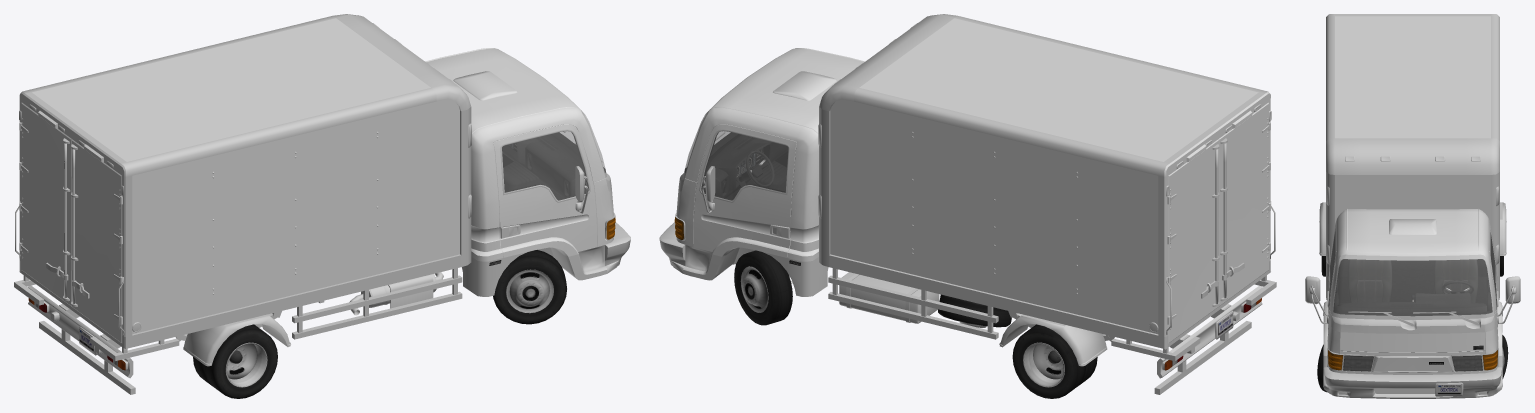
Rendered from lct3000.fbx.
3 renders of one model, left to right at view 1: azimuth 30°, elevation 25°; view 2: azimuth 150°, elevation 25°; view 3: azimuth 270°, elevation 25°, orthographic. The views are drawn at different scales.
Parts seen in each view (by area): view 1: Cargo_box, Cargo_box_Frame, body, Cargodoor_left, Cargodoor_right, Frame, Door_Right, wheel_FR, Door_Glass_Right, wheel_RR, Dashboard, Bottom (+7 smaller); view 2: Cargo_box, Cargo_box_Frame, body, Cargodoor_right, Cargodoor_left, Frame, Door_Left, Door_Glass_Left, wheel_RL, wheel_FL, Bottom, Dashboard (+8 smaller); view 3: Cargo_box, body, Cargo_box_Frame, Windshield, Bumper_front, Windshield_trim, Seats, Interior, Dashboard, Grill, Headlights_Glass, Frame (+13 smaller).
Boxes of the visible parts, left/top/right/bottom form: Cargo_box: left=19, top=18, right=459, bottom=336; Cargo_box_Frame: left=15, top=14, right=471, bottom=348; body: left=425, top=48, right=613, bottom=261; Cargodoor_left: left=21, top=102, right=72, bottom=306; Cargodoor_right: left=72, top=139, right=122, bottom=343; Frame: left=14, top=268, right=462, bottom=394; Door_Right: left=493, top=124, right=597, bottom=257; wheel_FR: left=493, top=250, right=566, bottom=324; Door_Glass_Right: left=502, top=131, right=588, bottom=200; wheel_RR: left=193, top=324, right=277, bottom=398; Dashboard: left=502, top=134, right=587, bottom=197; Bottom: left=462, top=245, right=607, bottom=296; Cargo_box: left=830, top=18, right=1270, bottom=336; Cargo_box_Frame: left=818, top=14, right=1275, bottom=349; body: left=676, top=48, right=864, bottom=261; Cargodoor_right: left=1218, top=102, right=1268, bottom=306; Cargodoor_left: left=1168, top=139, right=1218, bottom=343; Frame: left=828, top=268, right=1276, bottom=394; Door_Left: left=693, top=124, right=796, bottom=257; Door_Glass_Left: left=701, top=131, right=787, bottom=200; wheel_RL: left=1012, top=324, right=1097, bottom=398; wheel_FL: left=734, top=250, right=792, bottom=325; Bottom: left=683, top=245, right=828, bottom=296; Dashboard: left=703, top=134, right=788, bottom=197; Cargo_box: left=1335, top=16, right=1490, bottom=224; body: left=1323, top=209, right=1502, bottom=374; Cargo_box_Frame: left=1326, top=14, right=1499, bottom=300; Windshield: left=1333, top=259, right=1492, bottom=315; Bumper_front: left=1323, top=367, right=1502, bottom=398; Windshield_trim: left=1331, top=254, right=1494, bottom=333; Seats: left=1347, top=259, right=1478, bottom=302; Interior: left=1333, top=259, right=1492, bottom=316; Dashboard: left=1337, top=293, right=1486, bottom=314; Grill: left=1340, top=355, right=1485, bottom=372; Headlights_Glass: left=1343, top=355, right=1482, bottom=371; Frame: left=1319, top=202, right=1506, bottom=255.
Bounding box in the file's own units: 237 × 103 × 112.
